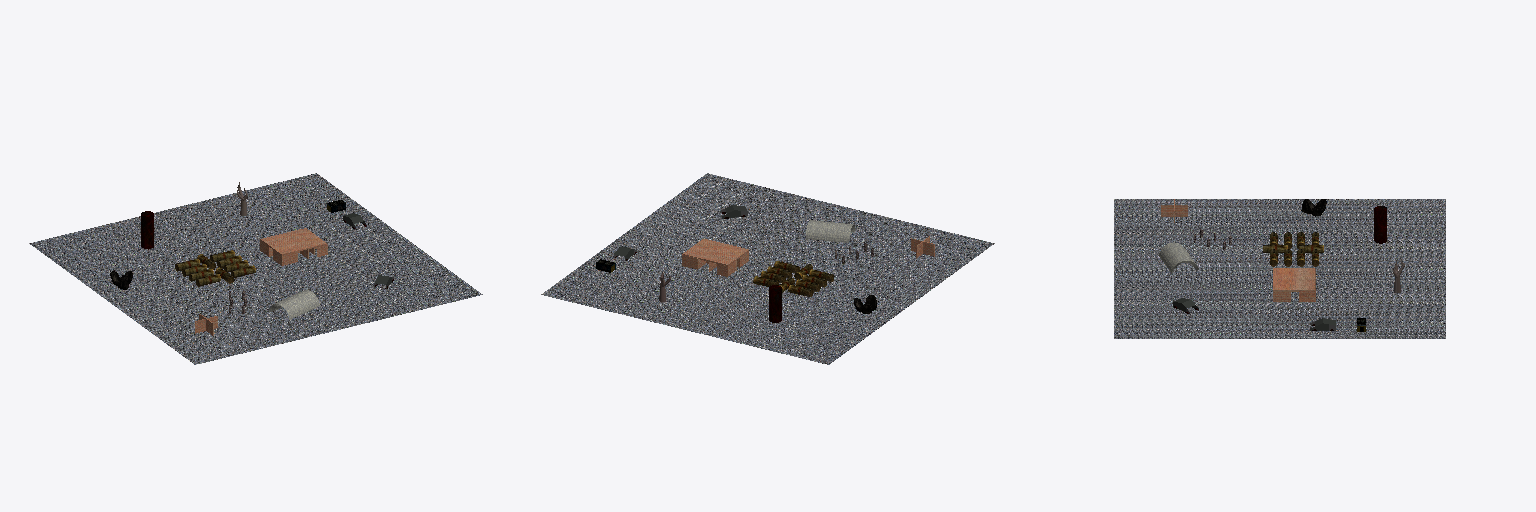
The picture shows the model from 3 angles: view 1: azimuth 30°, elevation 25°; view 2: azimuth 150°, elevation 25°; view 3: azimuth 270°, elevation 25°; orthographic projection.
Visible parts, largest first — view 1: Plane_Plane.001, Cube_Cube.026_Cube_Cube.029, Cylinder.009; view 2: Plane_Plane.001, Cube_Cube.026_Cube_Cube.029, Cylinder.009; view 3: Plane_Plane.001, Cube_Cube.026_Cube_Cube.029, Cylinder.009.
Boxes of the visible parts, <box> form: Plane_Plane.001: <box>29,173,482,364</box>; Cube_Cube.026_Cube_Cube.029: <box>260,228,326,255</box>; Cylinder.009: <box>269,290,319,319</box>; Plane_Plane.001: <box>541,173,994,364</box>; Cube_Cube.026_Cube_Cube.029: <box>683,239,748,265</box>; Cylinder.009: <box>806,220,855,242</box>; Plane_Plane.001: <box>1114,199,1445,338</box>; Cube_Cube.026_Cube_Cube.029: <box>1273,268,1314,291</box>; Cylinder.009: <box>1159,242,1198,272</box>.
Bounding box in the file's own units: 4096 × 522 × 4096.
Materials: 57 (9 with a texture image).